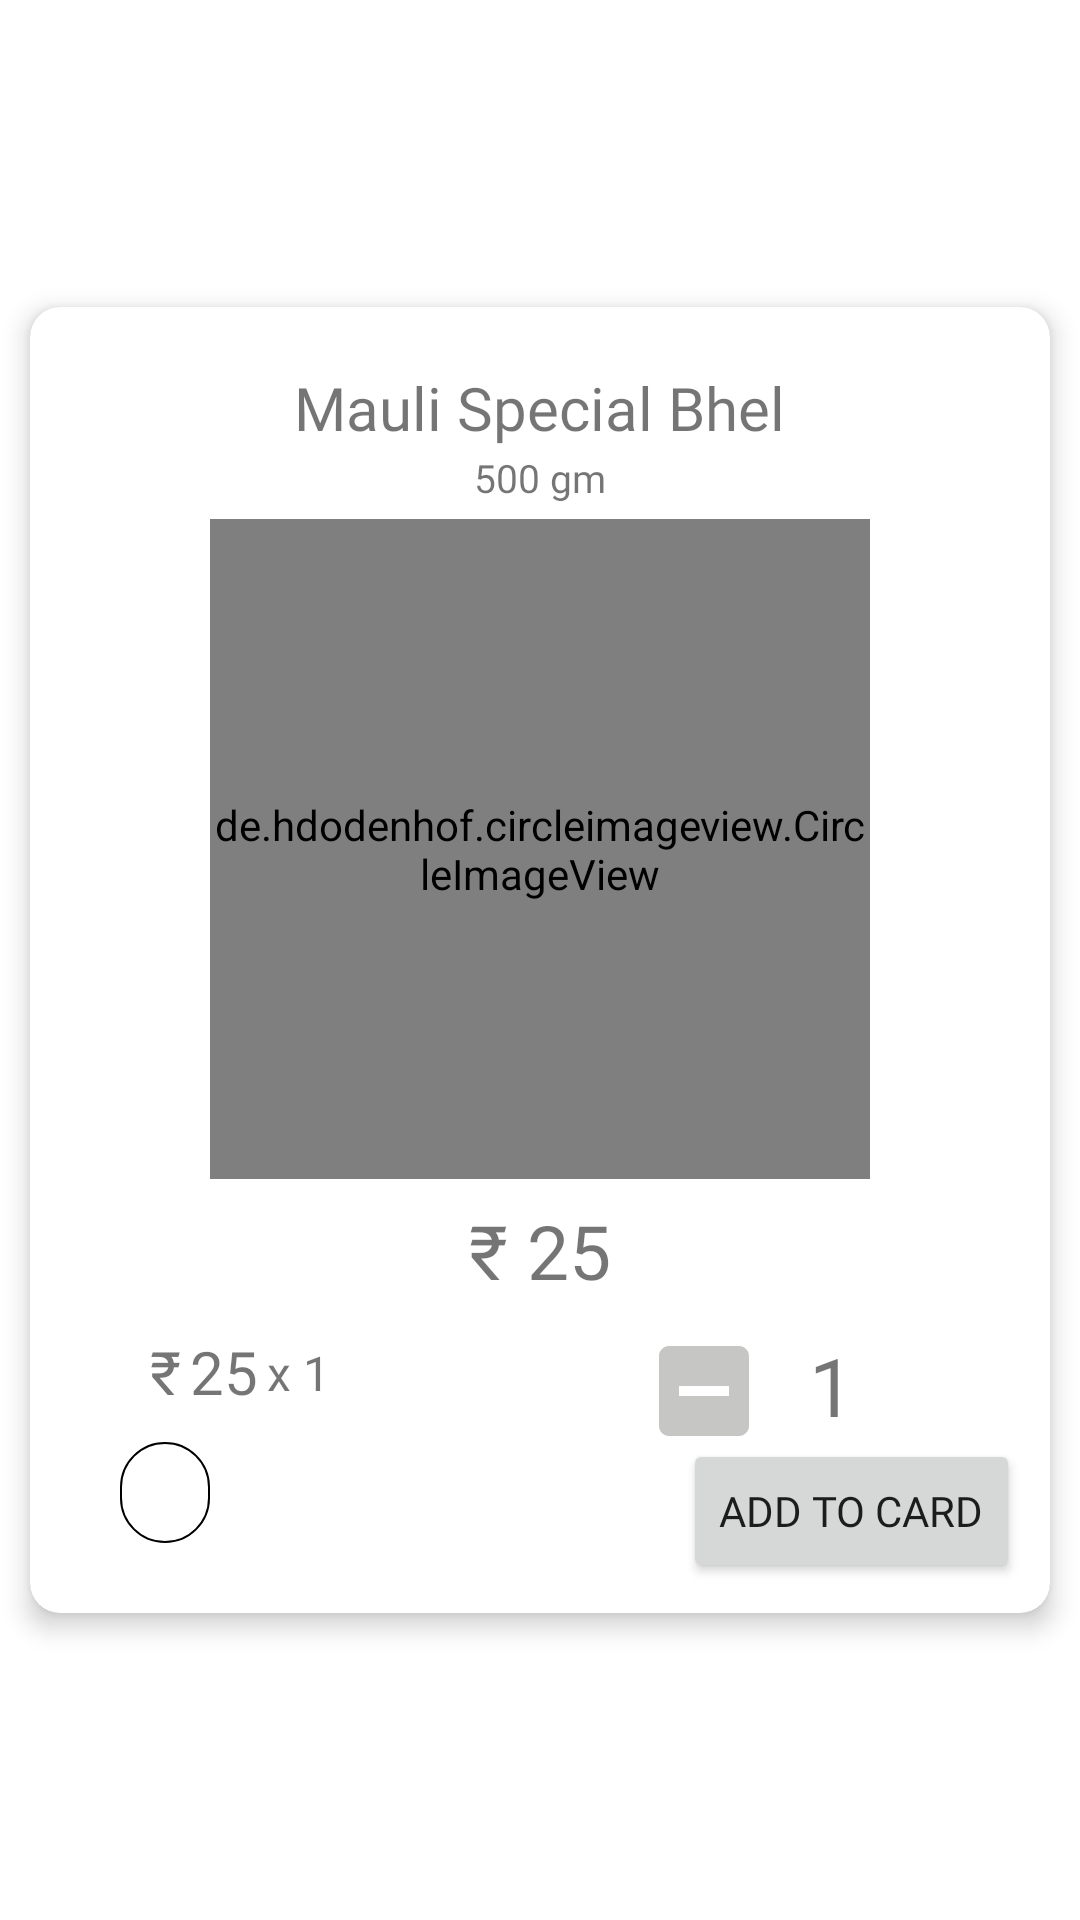

Named icons in this screenshot (1080 x 1920) and their bounding boxes, (x1, y1, x2, y2):
minus: (659, 1346, 749, 1436)
